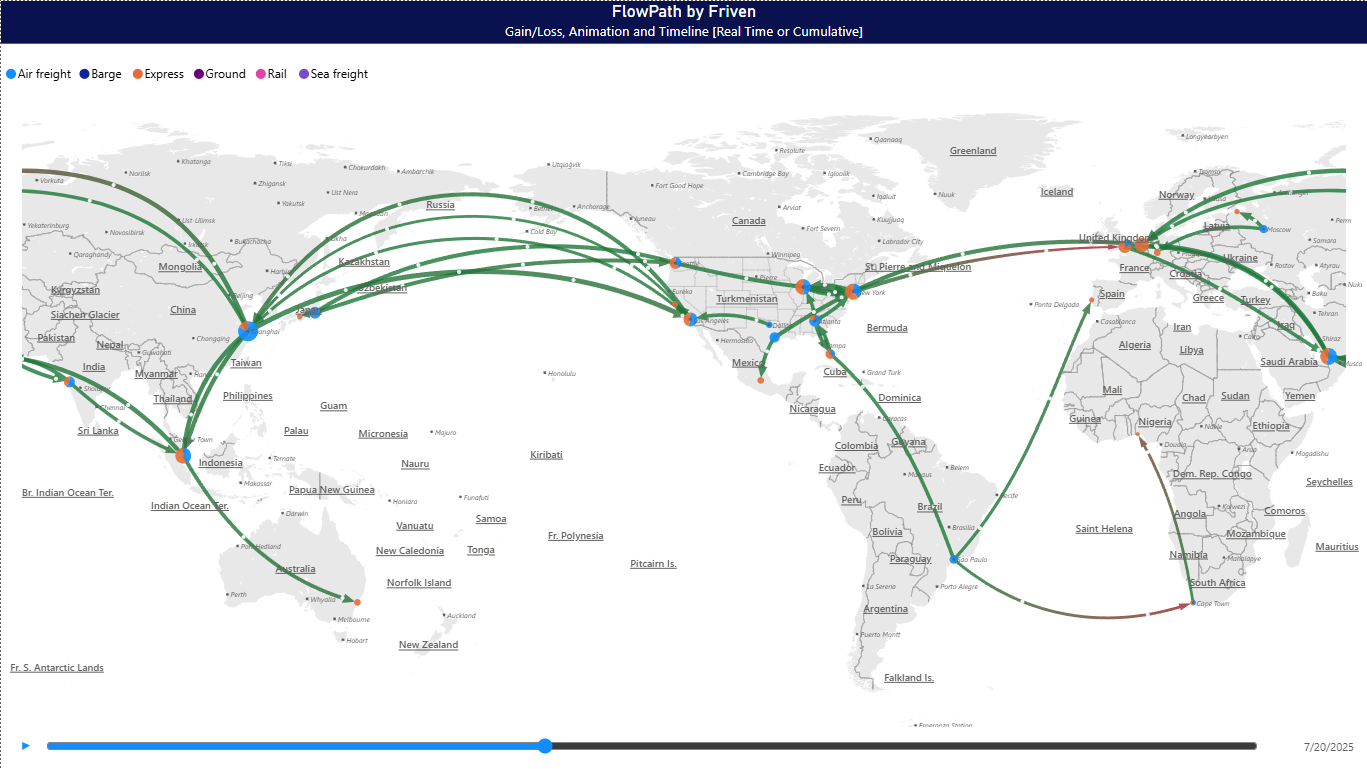

This screenshot's page, from the dashboard's own definition file:
{"tool":"powerbi","page":{"name":"Animation and Timeline","canvas":[1366,768],"ordinal":1},"visuals":[{"type":"flowMap094E8B8E0C644C80B88BA54992D66F39","title":"Flow Map by Friven","fields":{"origin":["sample-data.Origin"],"originLatitude":["sample-data.OriginLat"],"originLongitude":["sample-data.OriginLon"],"originSize":["Sum(sample-data.OriginShipments)"],"destination":["sample-data.Destination"],"destLatitude":["sample-data.DestLat"],"destLongitude":["sample-data.DestLon"],"destinationSize":["Sum(sample-data.DestShipments)"],"value":["Sum(sample-data.ArrowThickness)"],"legend":["sample-data.Category"],"routeId":["sample-data.RouteID"],"legOrder":["sample-data.LegOrder"],"time":["sample-data.Date"],"endTime":["sample-data.EndDate"]},"box":[0,0,1366,768],"z":0}]}

Visuals, with their boxes in screenshot pixels (x1, y1, x2, y2), scaled from the page's 1366x768 canvas onto the 1367x769 screenshot:
"Flow Map by Friven" flowMap094E8B8E0C644C80B88BA54992D66F39: detection(0, 0, 1366, 768)
